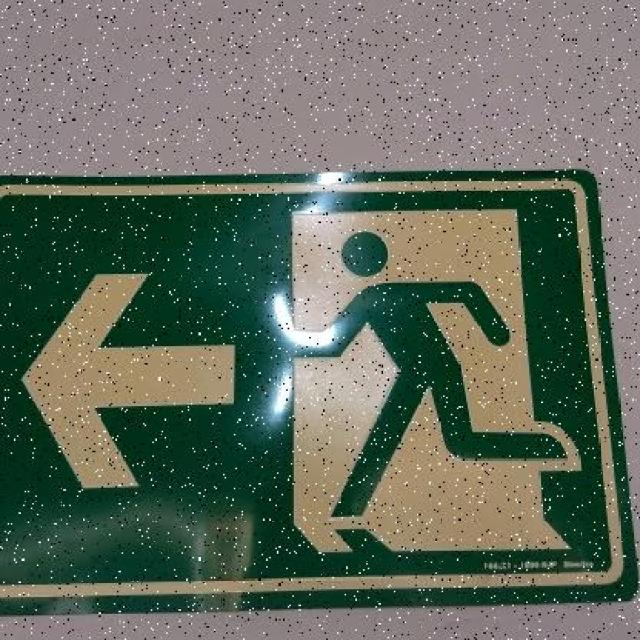emergency_exit: (1, 168, 638, 613)
